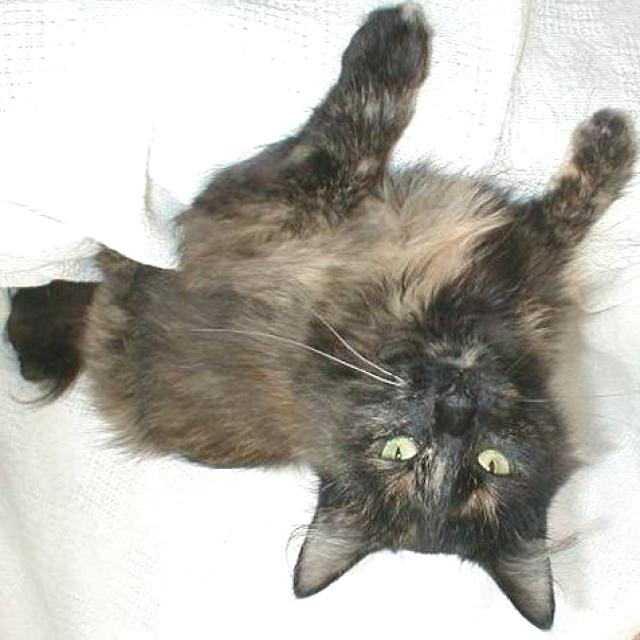Kucing: (12, 8, 622, 640)
